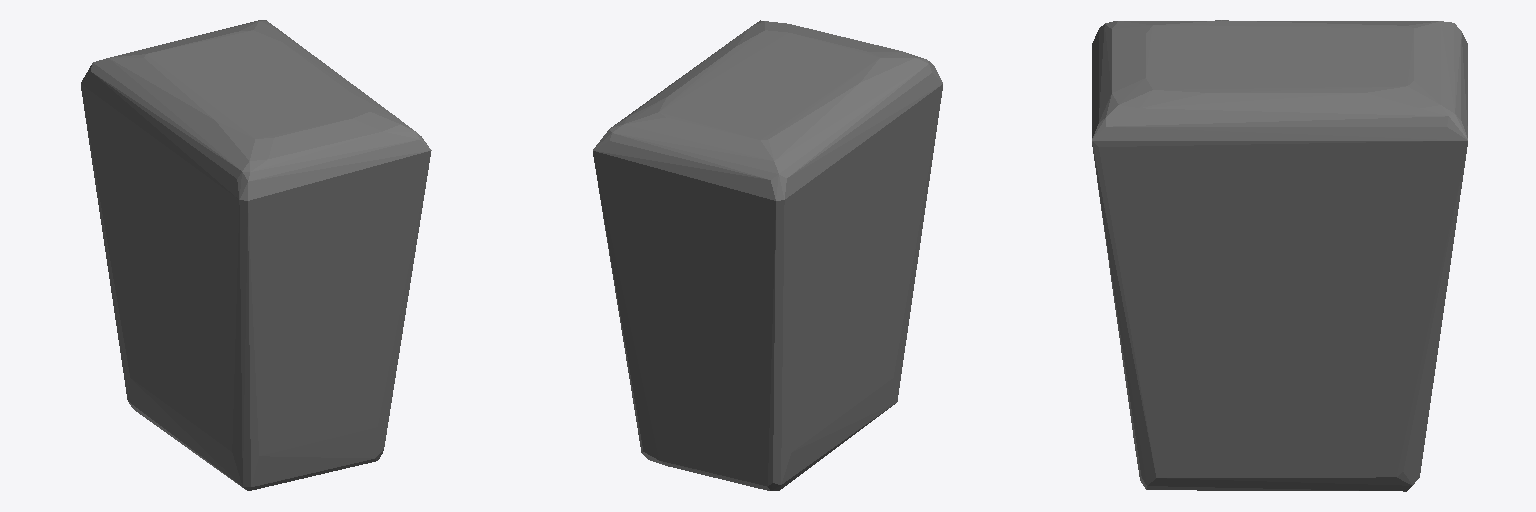
The robot description file, URDF, robot "trash_can_036":
<?xml version="1.0" ?>
<robot name="trash_can_036">
  <material name="color">
    <color rgba=".5 .5 .5 1"/>
  </material>

  <link name="base_link">
    <contact>
      <lateral_friction value="1.0"/>
      <rolling_friction value="0.001"/>
      <spinning_friction value="0.001"/>
      <inertia_scaling value="1.0"/>
    </contact>
    <inertial>
      <origin rpy="0 0 0" xyz="4.49264e-06 3.68423e-05 0.0230845"/>
       <mass value="0.1"/>
       <inertia ixx="1" ixy="0" ixz="0" iyy="1" iyz="0" izz="1"/>
    </inertial>

    <visual>
      <origin rpy="0 0 0" xyz="0 0 0"/>
      <geometry>
        <mesh filename="trash_can_036_vhacd_0_of_1.obj" scale="1 1 1"/>
      </geometry>
      <material name="color"/>
    </visual>

    <collision>
      <origin rpy="0 0 0" xyz="0 0 0"/>
      <geometry>
        <mesh filename="trash_can_036_vhacd_0_of_1.obj" scale="1 1 1"/>
      </geometry>
    </collision>

  </link>
</robot>

--- Facts derived from the render (not from the file) ---
3 views of the same robot in one strip: view 1: azimuth 30°, elevation 25°; view 2: azimuth 150°, elevation 25°; view 3: azimuth 270°, elevation 25° (orthographic).
Model trash_can_036 with 1 links and 0 joints (none), rooted at base_link, posed every joint at zero.
Links seen in each view (by area): view 1: base_link; view 2: base_link; view 3: base_link.
Boxes of the visible links, left/top/right/bottom form: base_link: left=81, top=20, right=431, bottom=490; base_link: left=593, top=20, right=942, bottom=490; base_link: left=1092, top=20, right=1467, bottom=491.
Bounding box of the posed robot: 0.2242 × 0.3395 × 0.3971 m (x, y, z).
1 mesh visuals loaded from 1 distinct referenced files (1 OBJ).